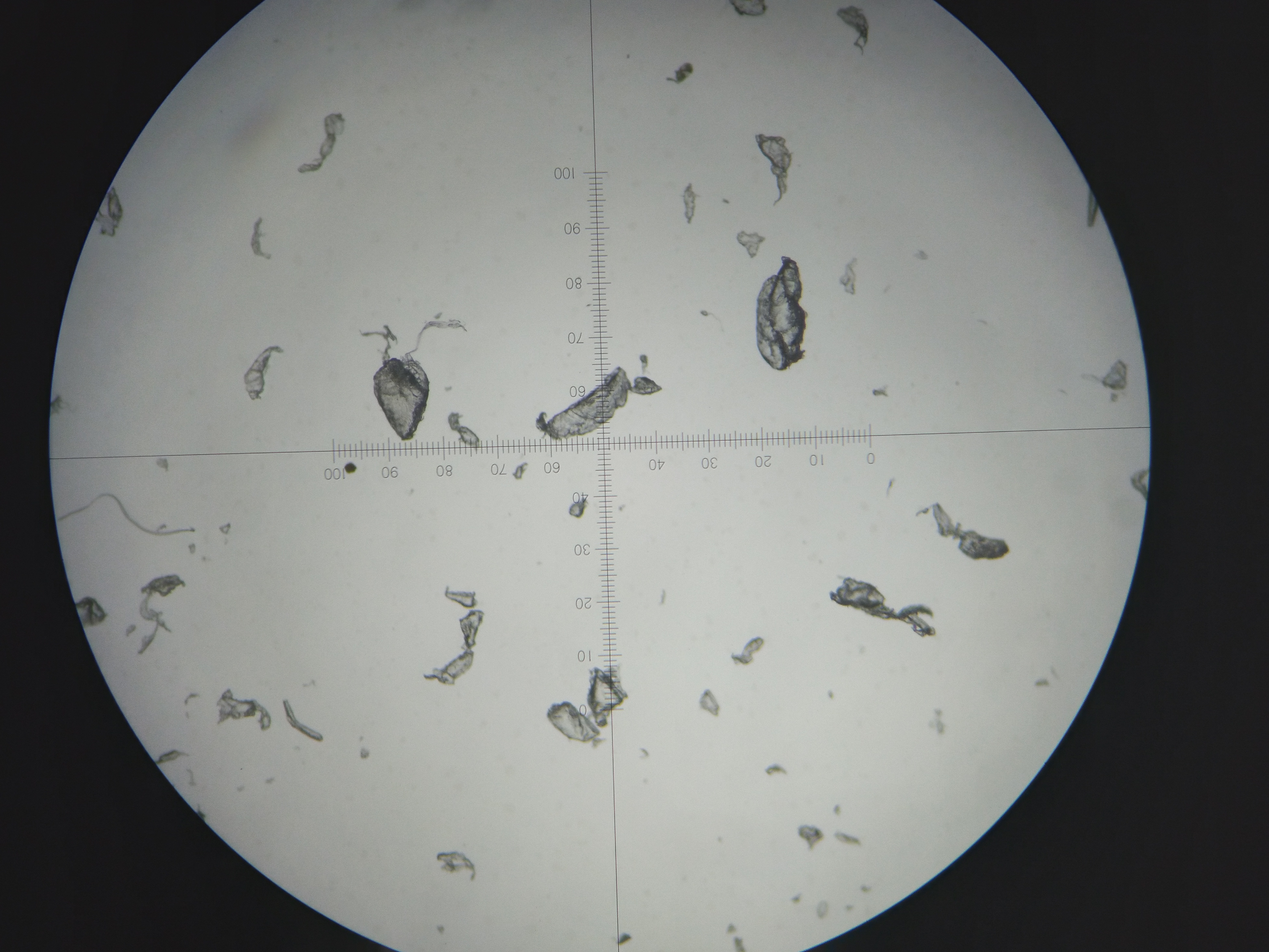microplastic: (357, 317, 468, 451), (531, 365, 674, 451), (57, 490, 218, 554), (828, 573, 946, 645), (915, 499, 1022, 567), (753, 257, 811, 382), (125, 571, 193, 663), (290, 109, 360, 188), (755, 131, 796, 211), (214, 690, 273, 736), (832, 2, 876, 63), (89, 186, 134, 242), (279, 700, 328, 744), (79, 594, 120, 637), (730, 633, 774, 671), (247, 213, 276, 269), (437, 850, 483, 881), (737, 226, 768, 263), (696, 691, 732, 722), (680, 181, 701, 231), (665, 57, 697, 88), (154, 746, 197, 769), (839, 252, 860, 297), (795, 822, 823, 851), (566, 497, 594, 525), (830, 831, 866, 851), (766, 763, 790, 778)
